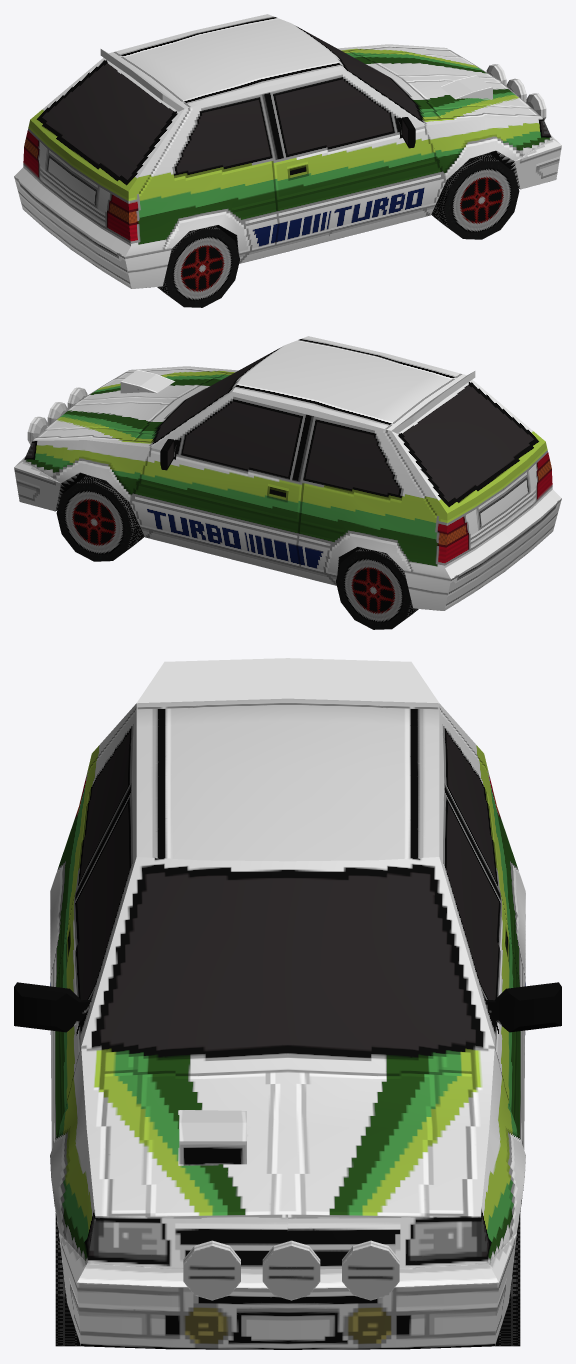
Rendered from K10CityTurboSpec.fbx.
3 views of the same model, one above another, from view 1: azimuth 30°, elevation 25°; view 2: azimuth 150°, elevation 25°; view 3: azimuth 270°, elevation 25° (orthographic). The views are drawn at different scales.
Parts seen in each view (by area): view 1: K10CityBody.001, rFWheel.001, rRWheel.001, K10BonnetScoop, K10SpotLights, K10RearSpoiler; view 2: K10CityBody.001, lFWheel.001, lRWheel.001, K10BonnetScoop, K10SpotLights, K10RearSpoiler; view 3: K10CityBody.001, K10RearSpoiler, K10SpotLights, K10BonnetScoop, lFWheel.001, rFWheel.001.
Boxes of the visible parts, x1,y1,x2,y2 form: K10CityBody.001: (14,14,561,288); rFWheel.001: (431,153,519,239); rRWheel.001: (157,225,239,307); K10BonnetScoop: (440,75,492,99); K10SpotLights: (486,64,546,120); K10RearSpoiler: (100,49,184,111); K10CityBody.001: (14,336,561,610); lFWheel.001: (56,475,144,561); lRWheel.001: (336,547,418,629); K10BonnetScoop: (120,369,174,393); K10SpotLights: (27,387,87,444); K10RearSpoiler: (391,371,475,433); K10CityBody.001: (14,698,561,1349); K10RearSpoiler: (137,658,438,703); K10SpotLights: (183,1240,399,1300); K10BonnetScoop: (179,1110,246,1164); lFWheel.001: (495,1215,520,1346); rFWheel.001: (55,1215,80,1346).
Bounding box in the file's own units: 385 × 160 × 200.
Materials: 3 (3 with a texture image).
